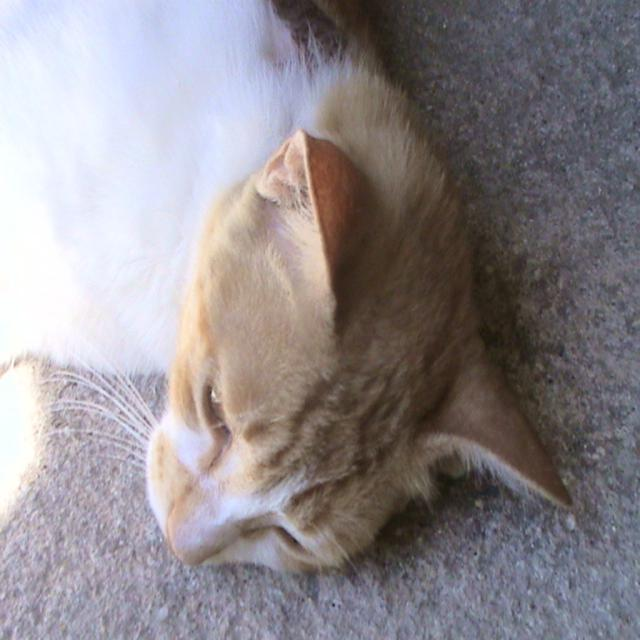Cat: (0, 0, 571, 578)
